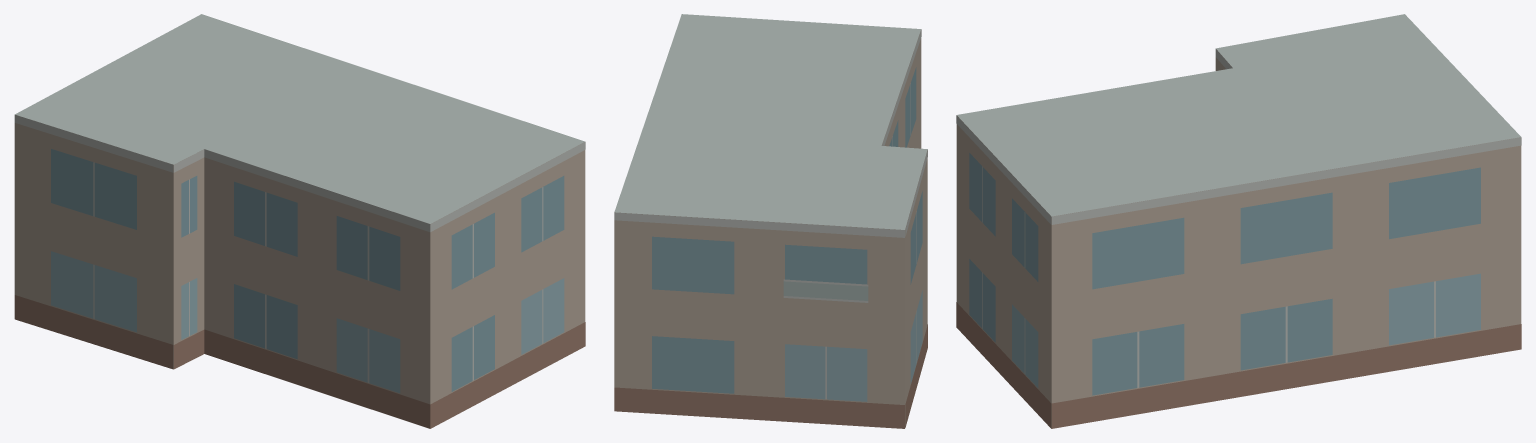
File: survey-upis-32838067.glb
3 renders of one model, left to right at view 1: azimuth 30°, elevation 25°; view 2: azimuth 150°, elevation 25°; view 3: azimuth 270°, elevation 25°, orthographic. The views are drawn at different scales.
Parts seen in each view (by area): view 1: survey-upis-32838067.tmp; view 2: survey-upis-32838067.tmp; view 3: survey-upis-32838067.tmp.
Boxes of the visible parts, <box> form: survey-upis-32838067.tmp: <box>14,14,585,428</box>; survey-upis-32838067.tmp: <box>614,14,927,428</box>; survey-upis-32838067.tmp: <box>956,14,1521,428</box>.
Size of the model in its own units: 12.49 by 6.1 by 14.72.
